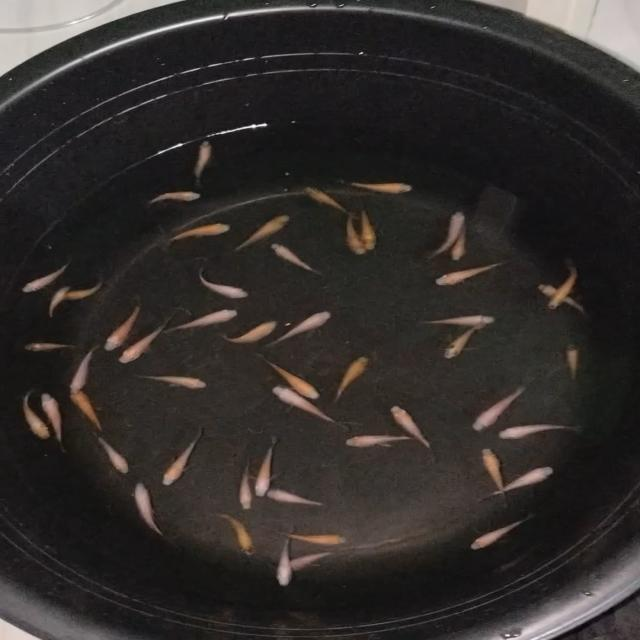nila: (268, 384, 346, 431), (480, 460, 566, 502), (260, 352, 326, 403), (470, 382, 528, 436), (154, 306, 240, 340), (479, 442, 518, 516), (160, 428, 207, 489), (228, 210, 294, 253), (264, 308, 334, 348), (418, 206, 466, 264), (119, 312, 170, 366), (466, 512, 533, 552), (99, 299, 144, 354), (388, 400, 437, 450), (134, 477, 171, 542), (441, 309, 489, 357), (270, 242, 332, 279), (18, 258, 78, 296), (432, 258, 508, 288), (332, 350, 372, 407), (250, 436, 284, 502), (214, 512, 258, 562), (494, 419, 584, 442), (70, 383, 108, 437), (268, 523, 350, 548), (36, 388, 70, 448), (196, 264, 252, 300), (20, 386, 52, 446), (339, 429, 424, 451), (92, 432, 132, 478), (164, 220, 234, 246), (214, 318, 279, 346), (536, 280, 588, 314), (409, 312, 497, 332), (130, 370, 210, 392), (548, 260, 582, 310), (300, 182, 356, 212), (60, 273, 114, 304), (348, 178, 420, 200), (272, 518, 294, 590), (70, 340, 96, 398), (340, 207, 368, 260), (144, 190, 202, 212), (358, 205, 382, 258), (266, 488, 326, 509), (42, 278, 70, 322), (236, 457, 256, 517), (282, 548, 332, 572), (22, 337, 82, 353), (195, 138, 214, 185), (564, 340, 580, 390), (450, 223, 470, 260)
